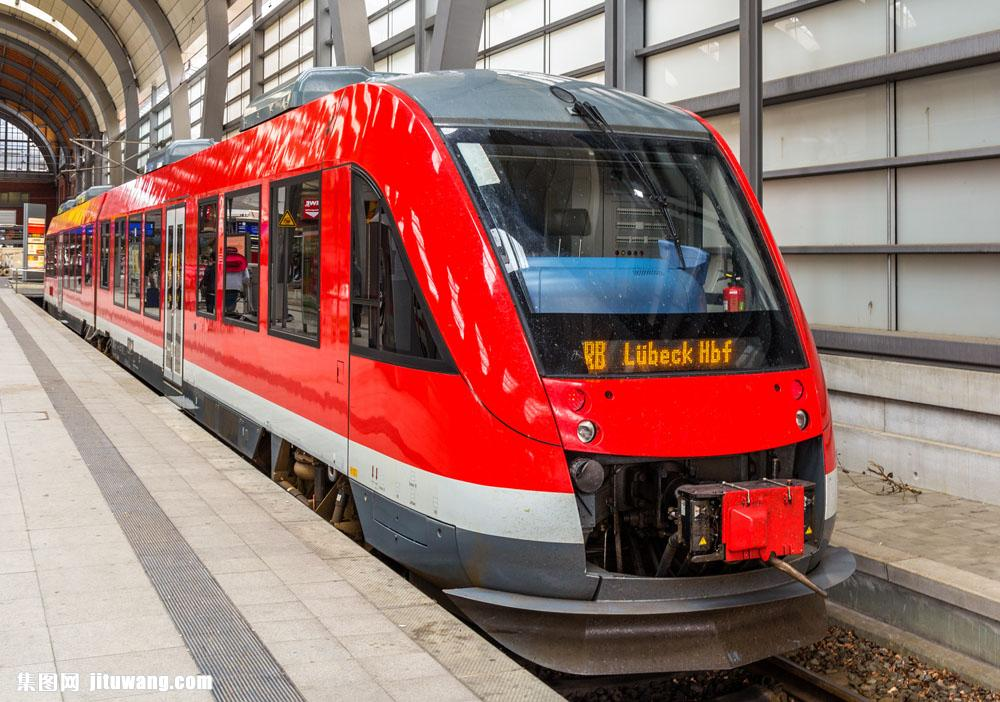hsrw: (29, 74, 856, 672)
